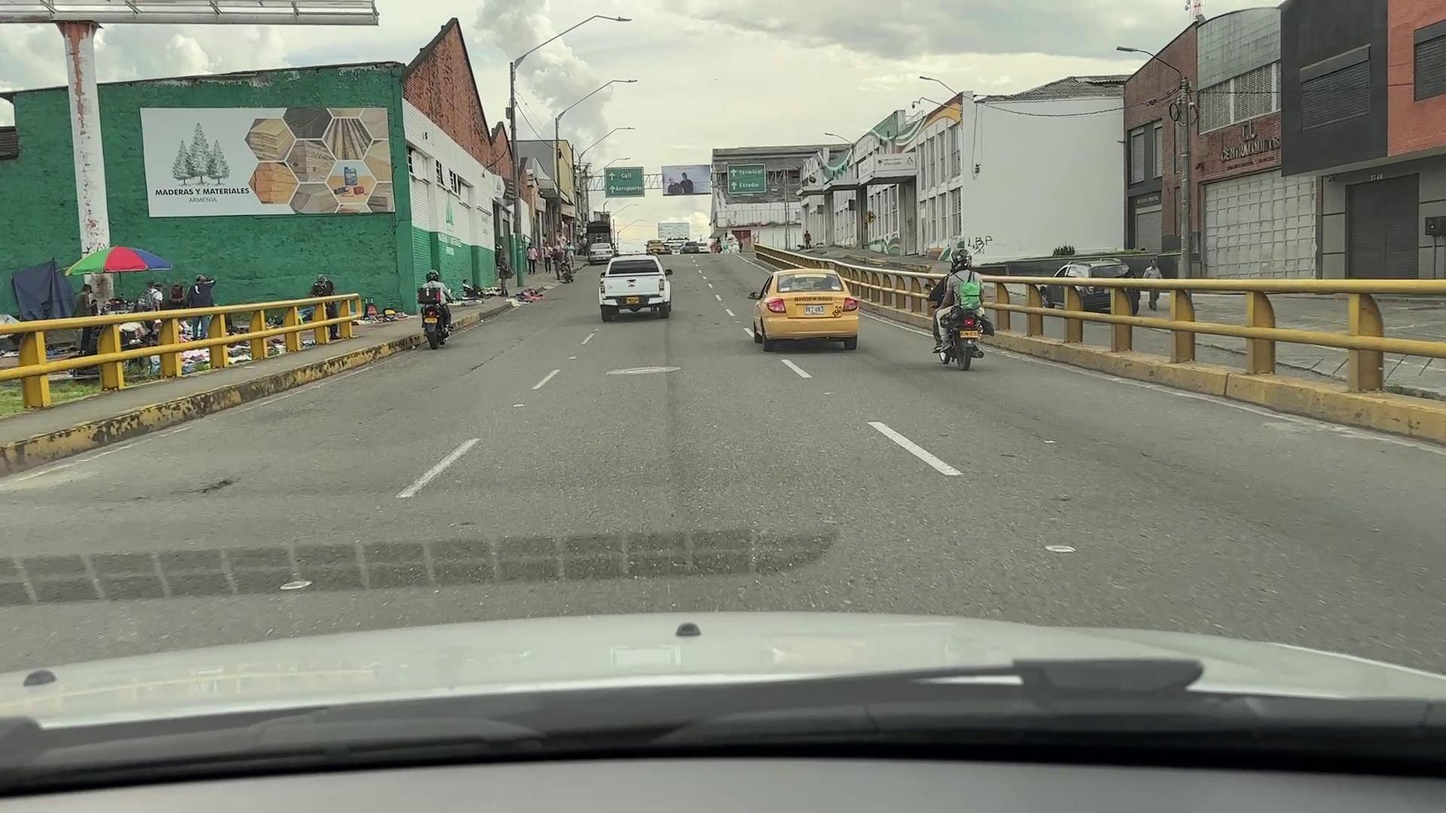bache: (183, 479, 235, 496)
registro: (624, 368, 666, 373)
